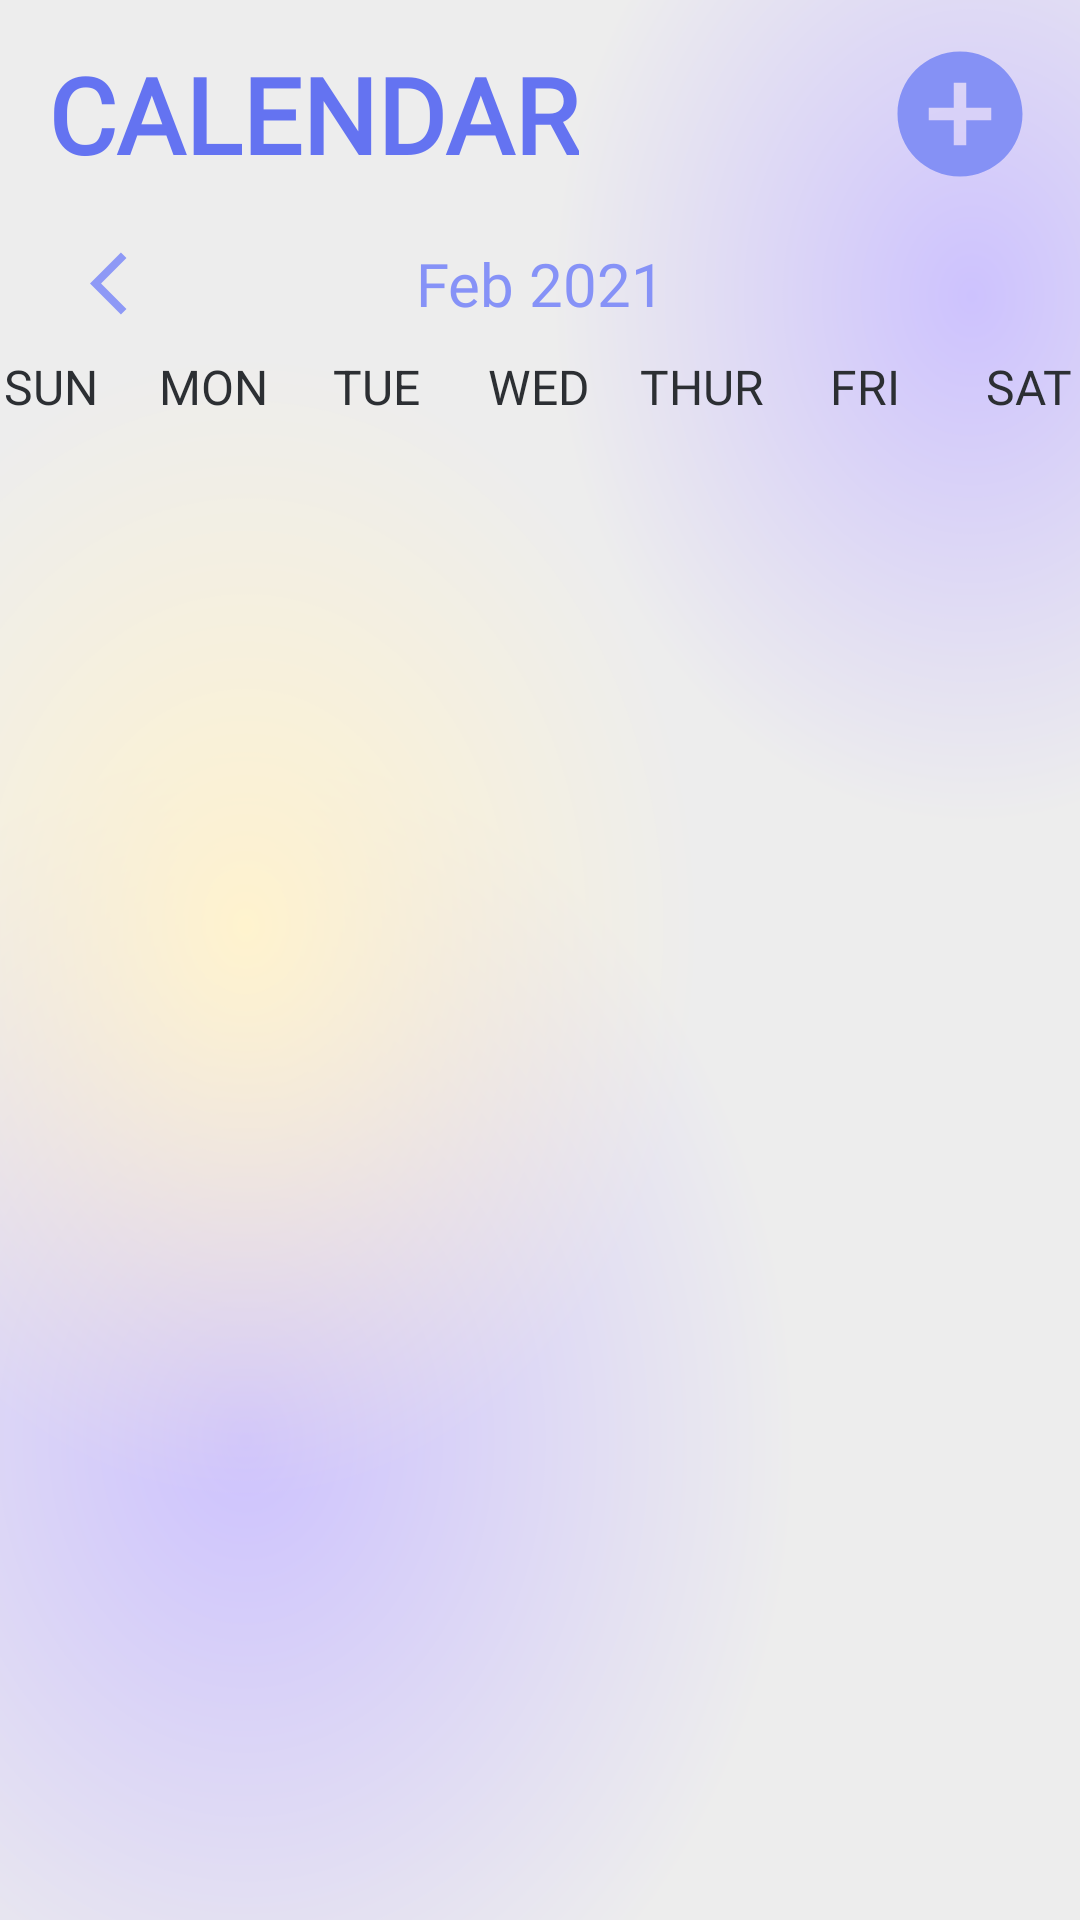

Where to tap for icons on this 1080w x 1920h app screen, as [x,y]:
add circle: [960,114]
arrow back: [108,283]
